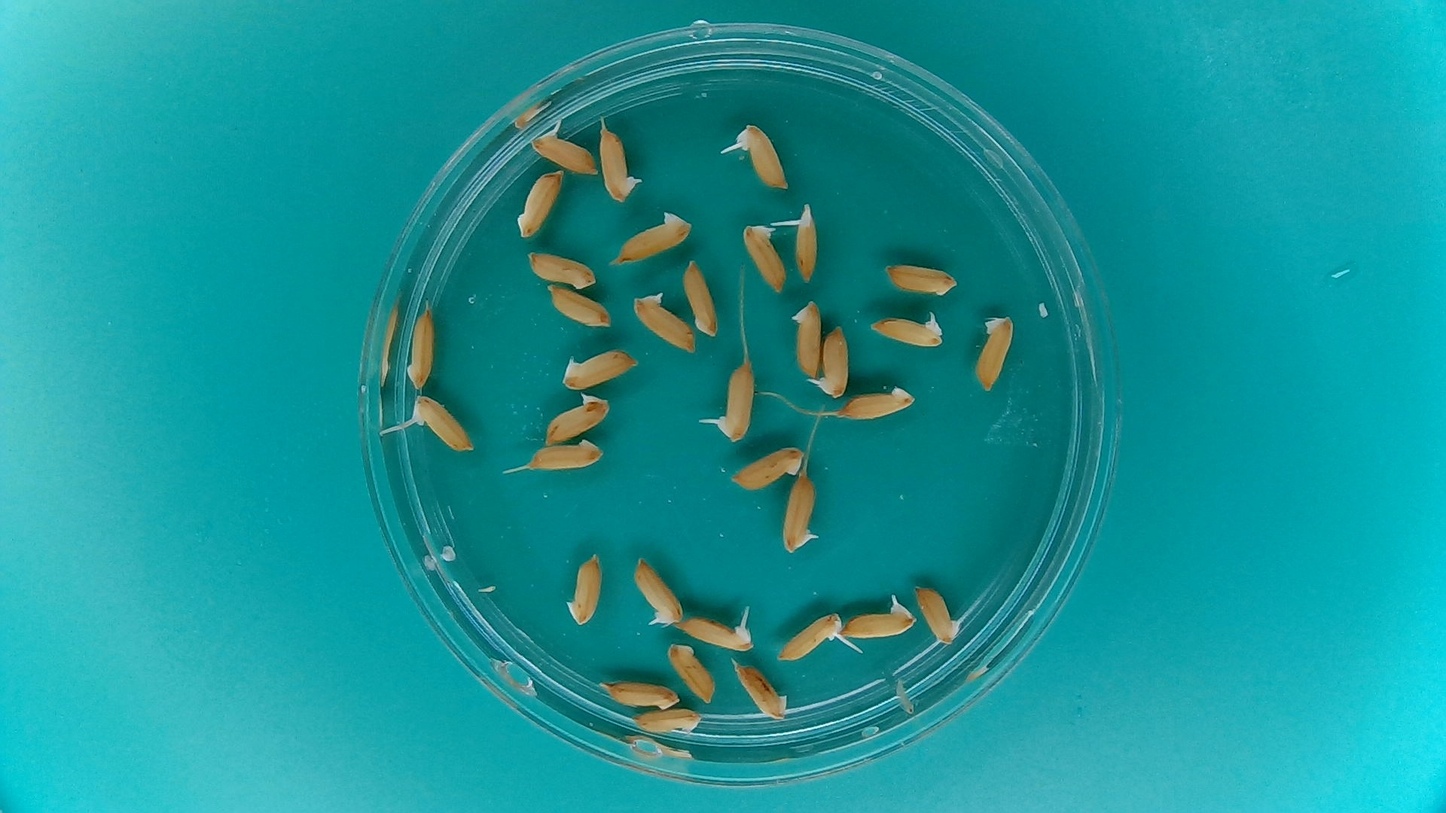no: (609, 205, 697, 268), (728, 441, 809, 491), (731, 658, 790, 726), (972, 312, 1017, 397), (558, 346, 641, 391), (514, 165, 564, 238), (837, 380, 921, 422), (665, 641, 718, 705), (563, 549, 604, 630), (682, 256, 722, 338), (402, 303, 438, 391), (524, 248, 599, 290), (880, 260, 961, 298), (521, 438, 610, 472), (546, 284, 613, 329), (599, 678, 681, 713), (789, 297, 822, 379), (629, 708, 706, 737)
yes: (630, 289, 698, 354), (541, 392, 614, 446), (740, 218, 790, 295), (778, 468, 821, 557), (775, 607, 840, 663), (412, 391, 472, 450), (718, 358, 758, 443), (635, 558, 684, 626), (737, 125, 787, 190), (529, 131, 600, 175), (869, 311, 945, 349), (845, 601, 919, 640), (677, 617, 755, 653), (813, 321, 848, 399), (597, 123, 633, 198), (791, 199, 822, 286), (914, 583, 956, 644)
